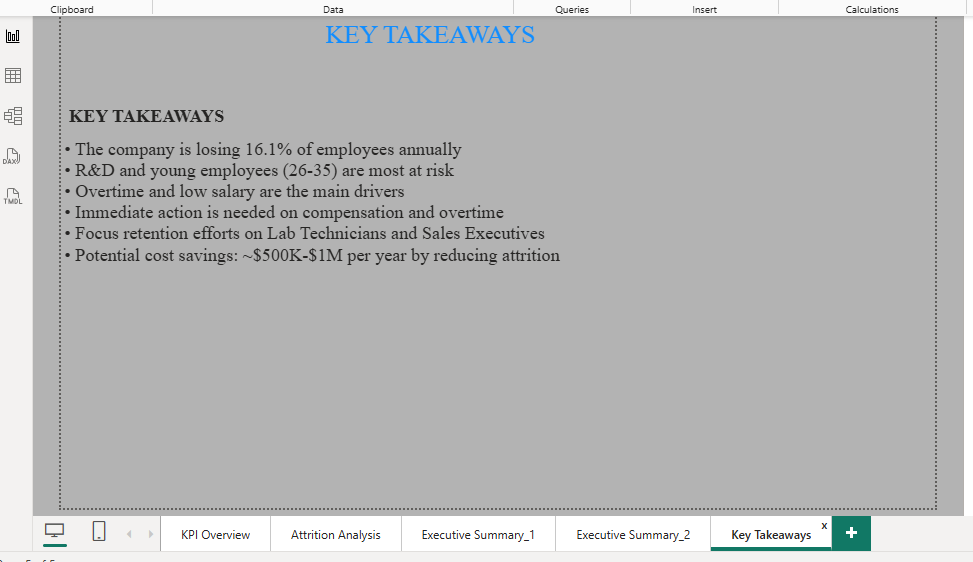

The page's visual inventory and layout, read from the dashboard file:
{"tool":"powerbi","page":{"name":"Key Takeaways","canvas":[1280,720],"ordinal":4},"visuals":[{"type":"textbox","box":[0,125.8,995,407.6],"z":0},{"type":"textbox","box":[382.1,0,348.7,81.2],"z":2000}]}

Visuals, with their boxes on the page's 1280x720 design canvas (x1, y1, x2, y2). These are canvas units, not pixel positions in the 973x562 screenshot, which may show the page scaled, cropped or inside an application window:
textbox: x1=0, y1=126, x2=995, y2=533
textbox: x1=382, y1=0, x2=731, y2=81
